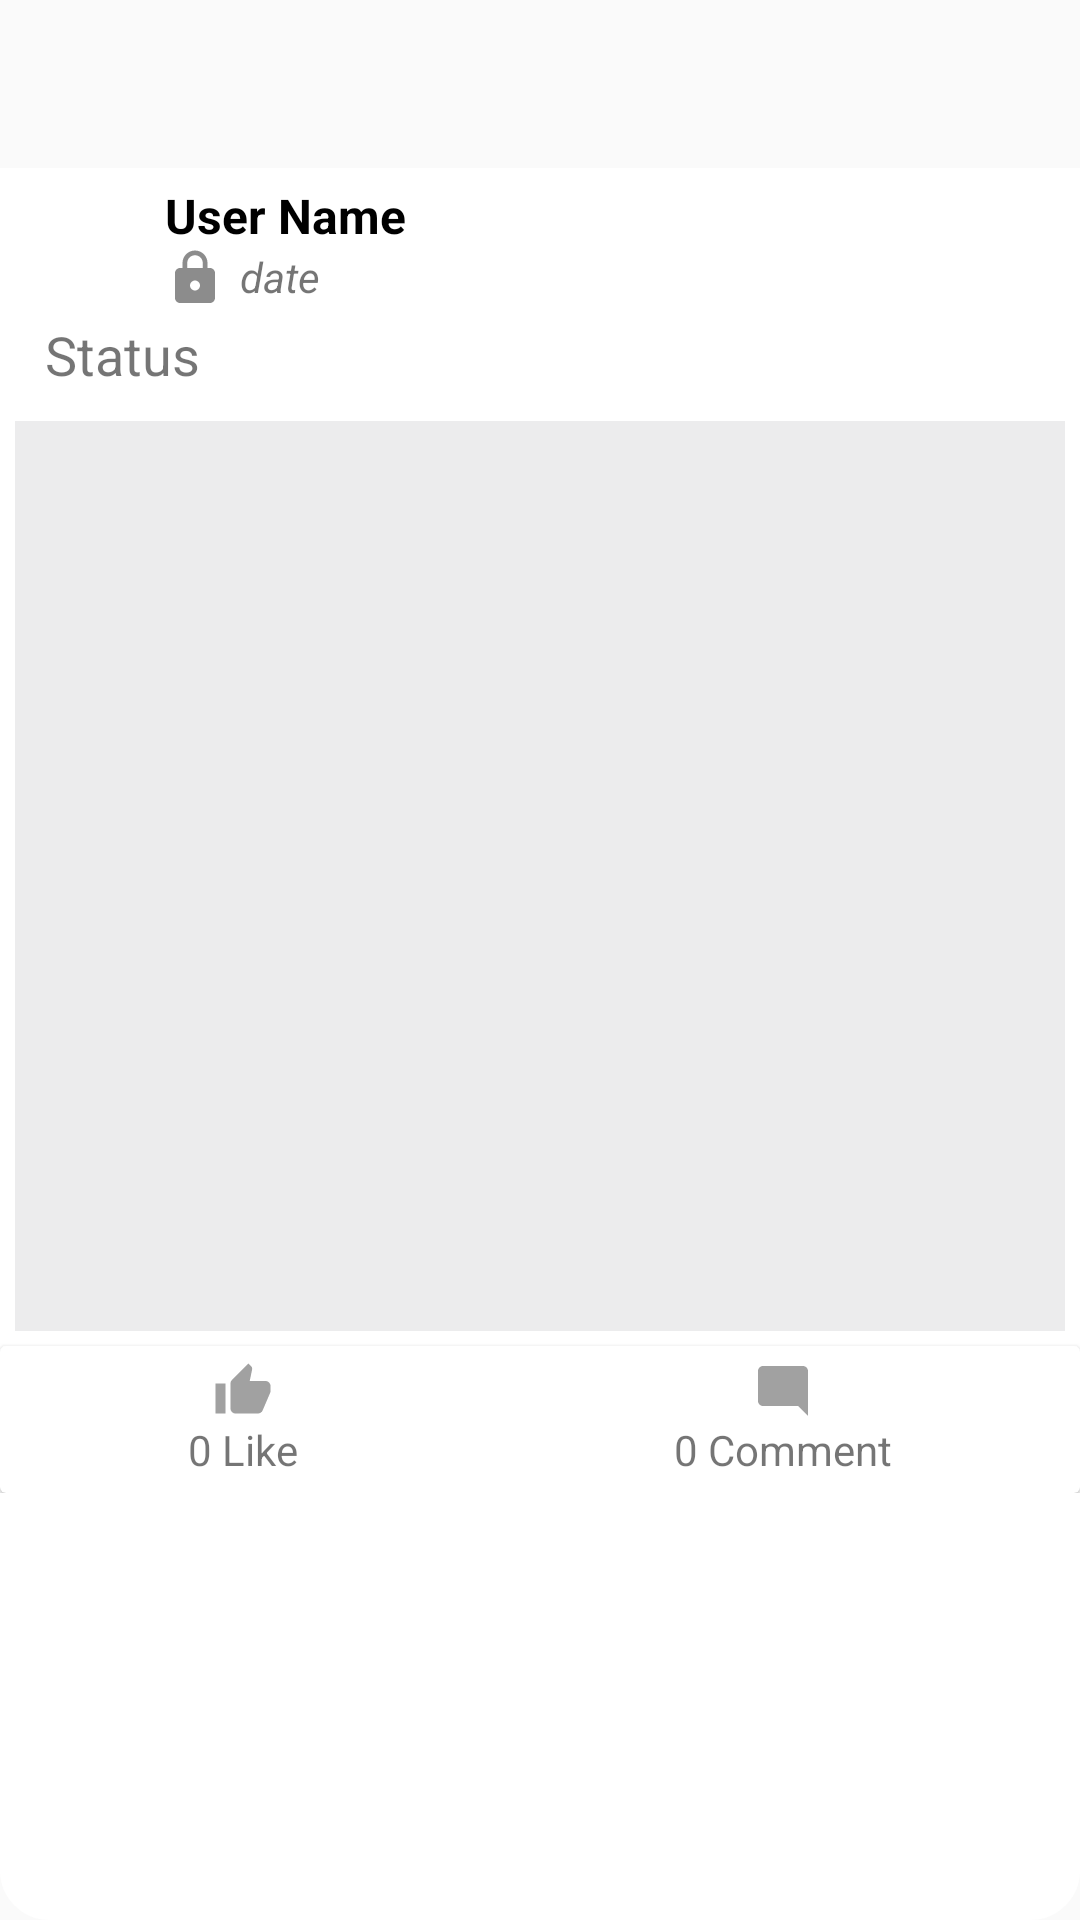

Named icons in this screenshot (1080px×1920px) and their bounding boxes, box(x1, y1, x2, y2):
onlyme: box(175, 250, 215, 303)
